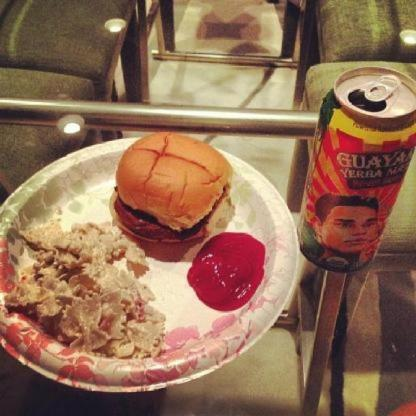alumunium_can: (296, 64, 416, 274)
